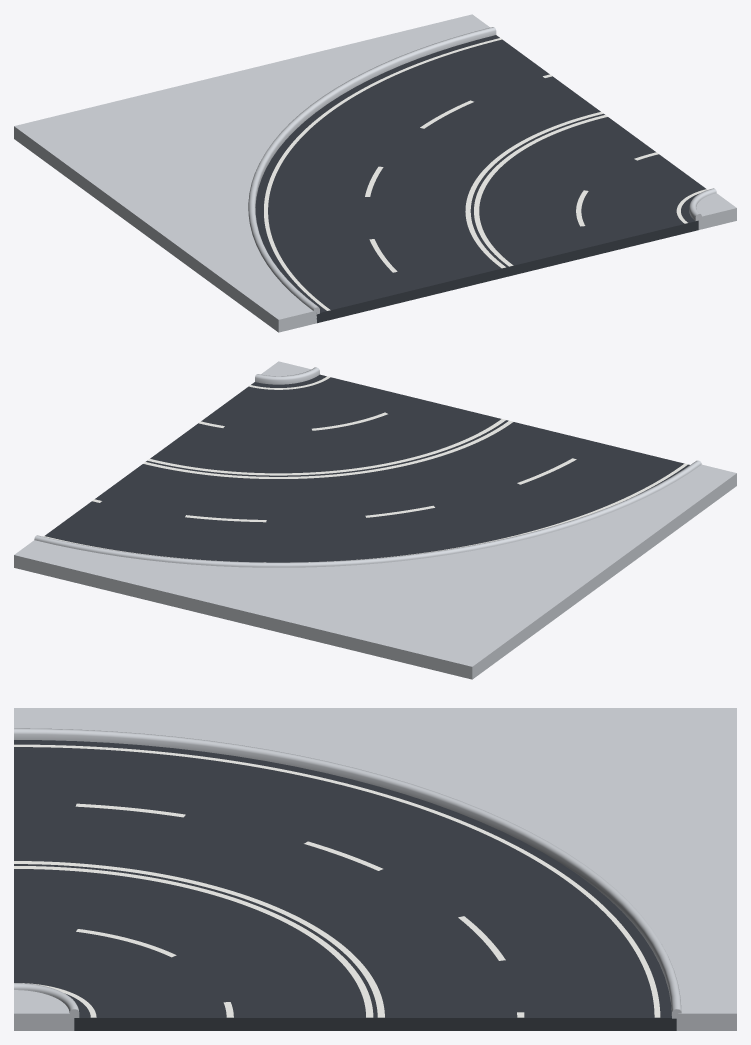
The model's file is avenida_curva.glb.
The picture shows the model from 3 angles, top to bottom: view 1: azimuth 30°, elevation 25°; view 2: azimuth 150°, elevation 25°; view 3: azimuth 270°, elevation 25°; orthographic projection. The views are drawn at different scales.
Parts seen in each view (by area): view 1: avenida_curva; view 2: avenida_curva; view 3: avenida_curva.
Boxes of the visible parts, x1,y1,x2,y2 form: avenida_curva: (14, 14, 736, 332); avenida_curva: (14, 361, 736, 679); avenida_curva: (14, 708, 736, 1030).
Size of the model in its own units: 15 by 0.5 by 15.
1 material, 1 textured.
